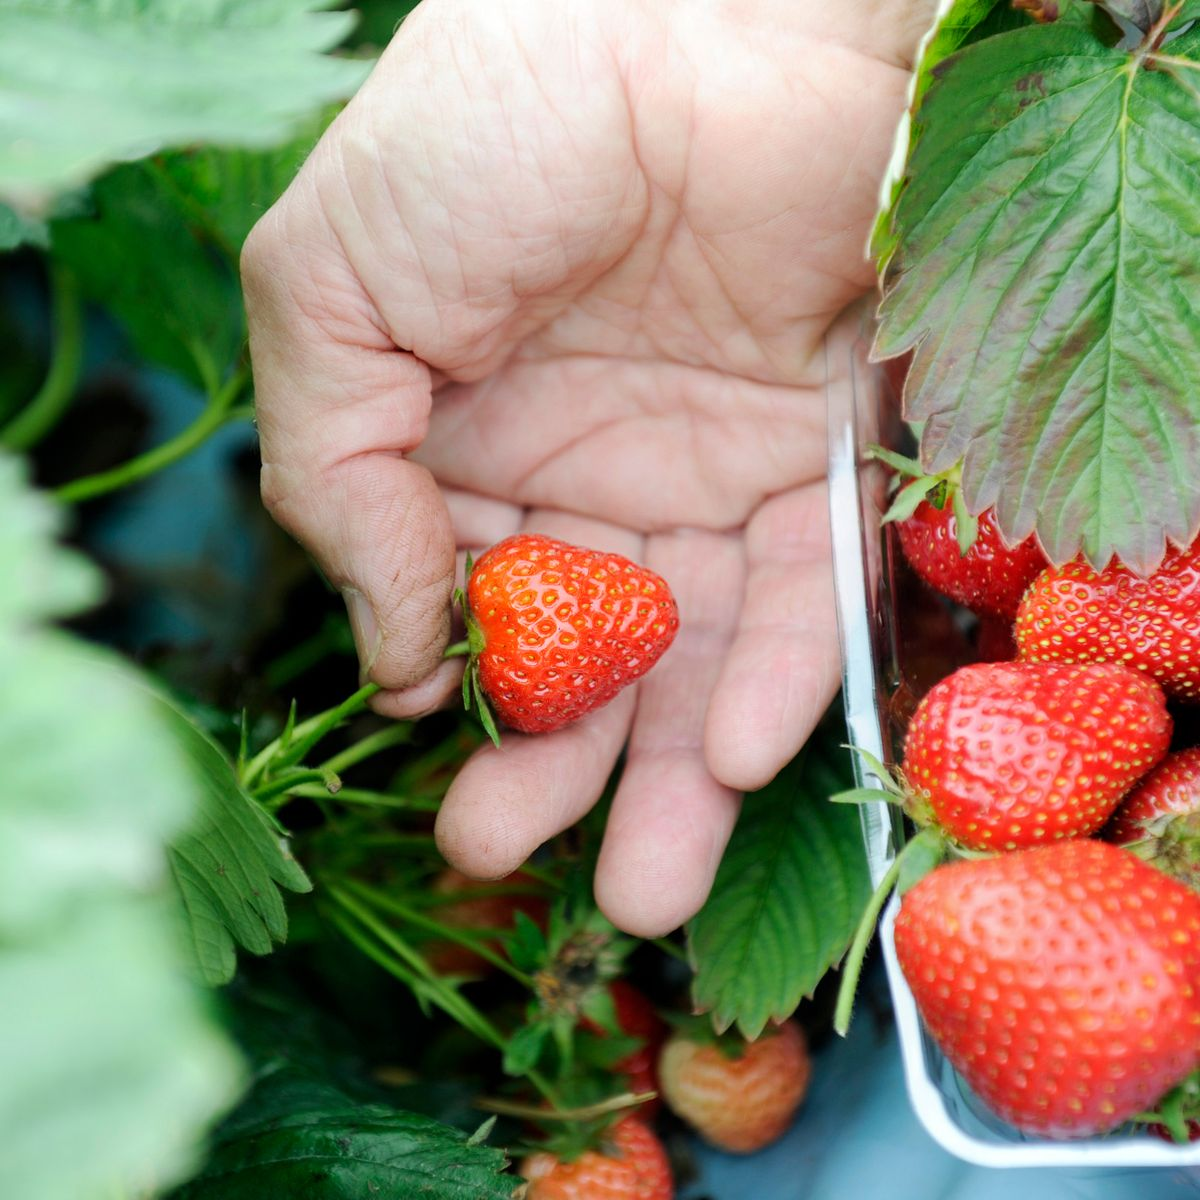ripe: (882, 841, 1197, 1141), (897, 631, 1179, 877), (457, 525, 684, 738), (895, 436, 1093, 633), (1018, 516, 1192, 705)
unripe: (657, 1009, 808, 1165), (508, 1102, 675, 1185)
